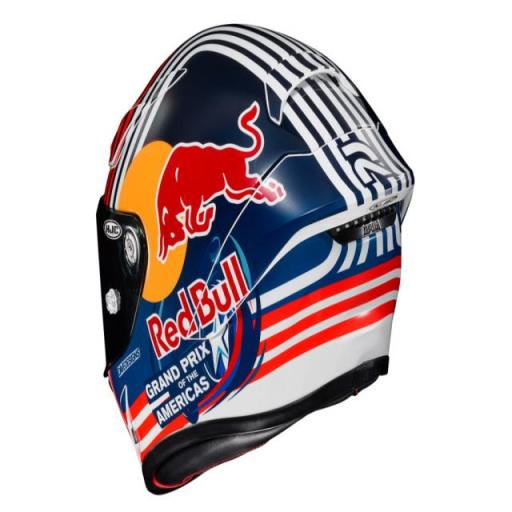Helmet: (86, 51, 424, 480)
